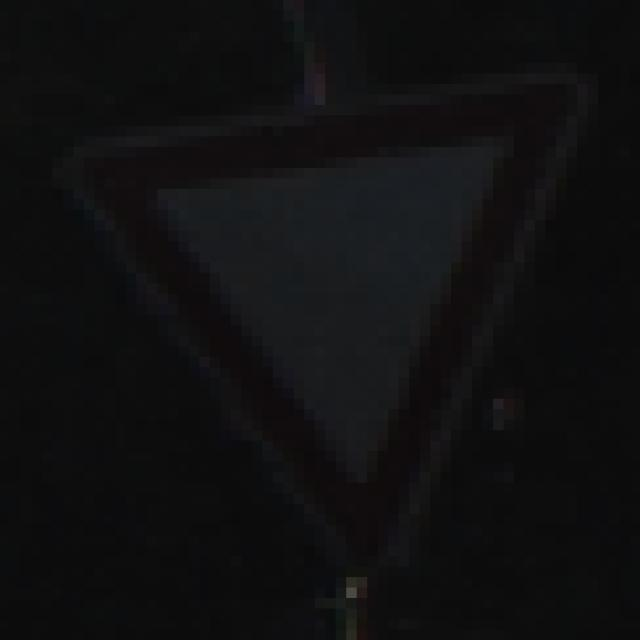Give Way: (64, 54, 588, 578)
